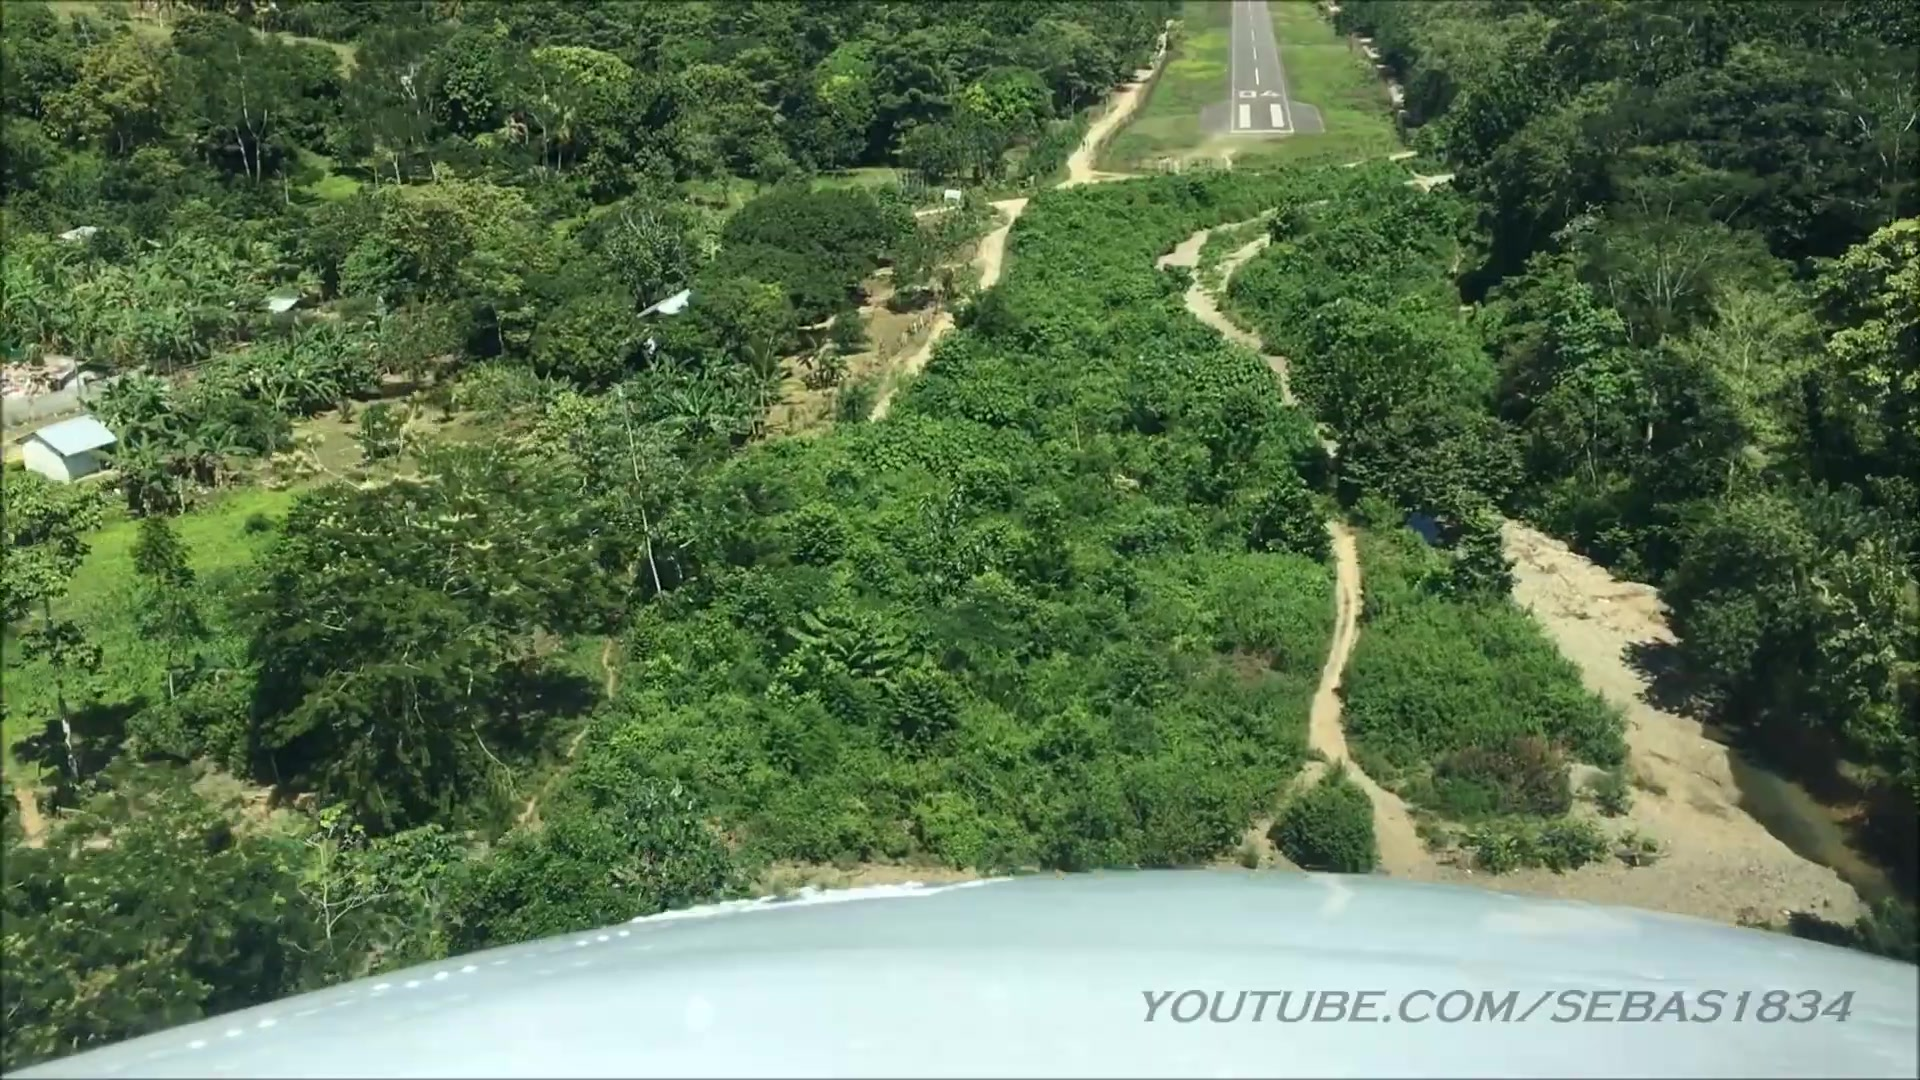entrance: (1236, 105, 1284, 127)
runway: (1229, 1, 1292, 136)
